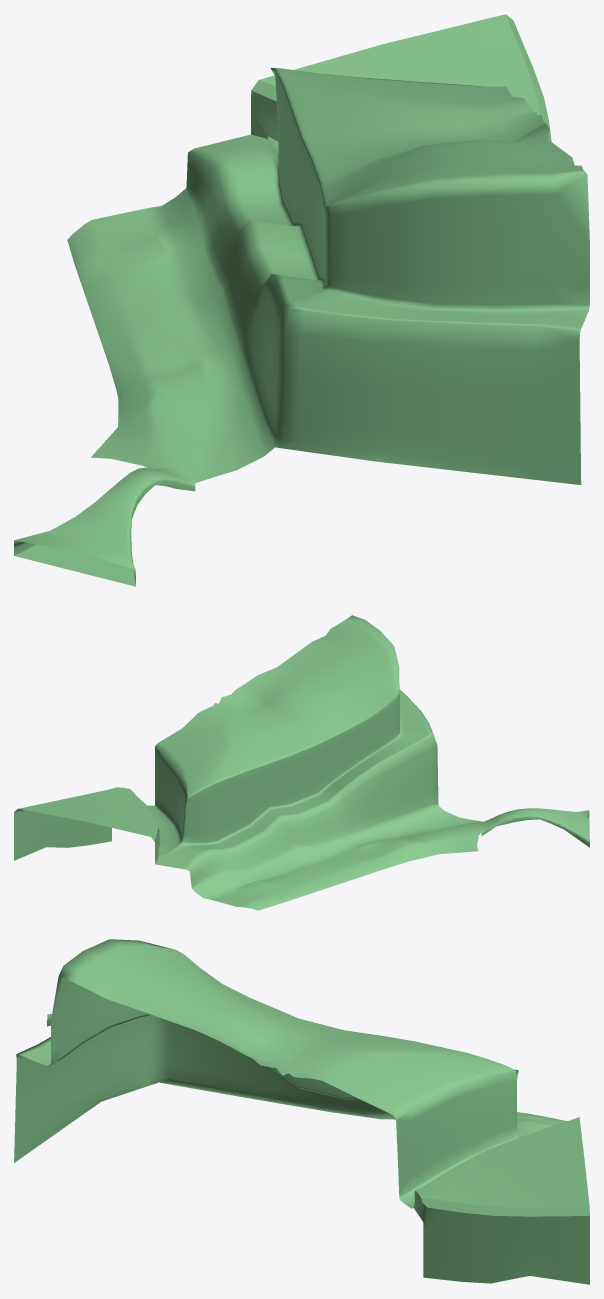
File: terrain_W1A4.fbx
3 renders of one model, top to bottom at view 1: azimuth 30°, elevation 25°; view 2: azimuth 150°, elevation 25°; view 3: azimuth 270°, elevation 25°, orthographic. The views are drawn at different scales.
Visible parts, largest first — view 1: W1A4_mesh; view 2: W1A4_mesh; view 3: W1A4_mesh.
Boxes of the visible parts, box(x1,y1,x2,y2) form: W1A4_mesh: box(14, 14, 589, 586); W1A4_mesh: box(14, 615, 589, 910); W1A4_mesh: box(14, 939, 589, 1284).
Size of the model in its own units: 39496 by 14484 by 33585.
